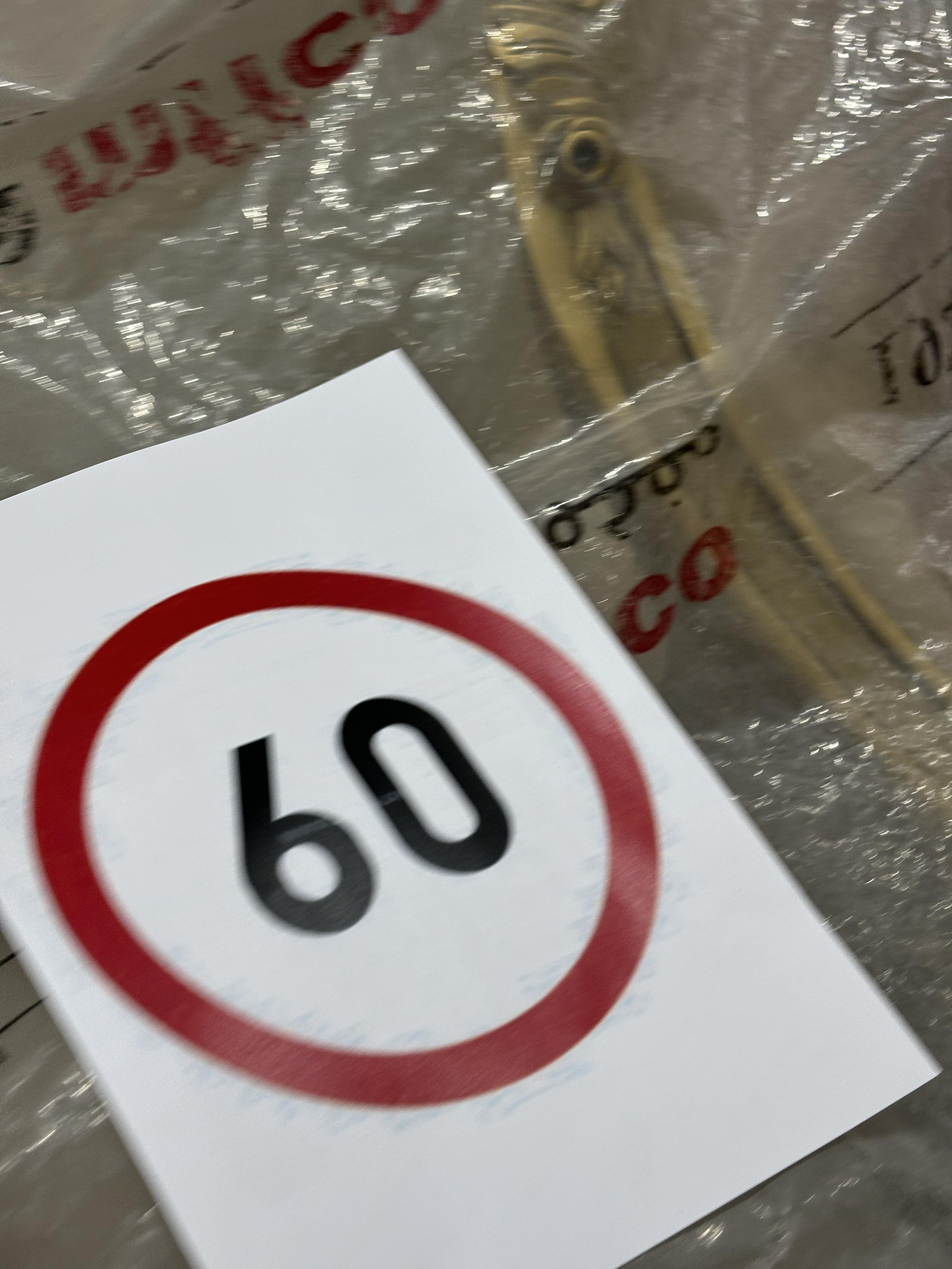60-Speed: (38, 558, 682, 1122)
